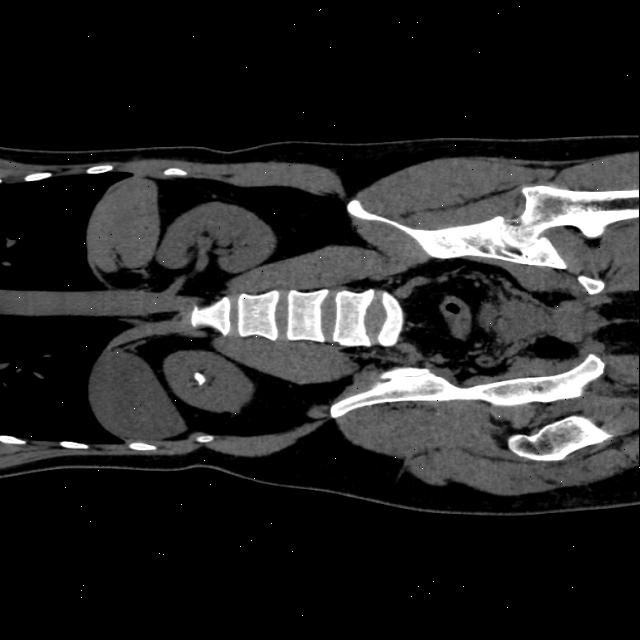kidneystone: (193, 371, 206, 384)
